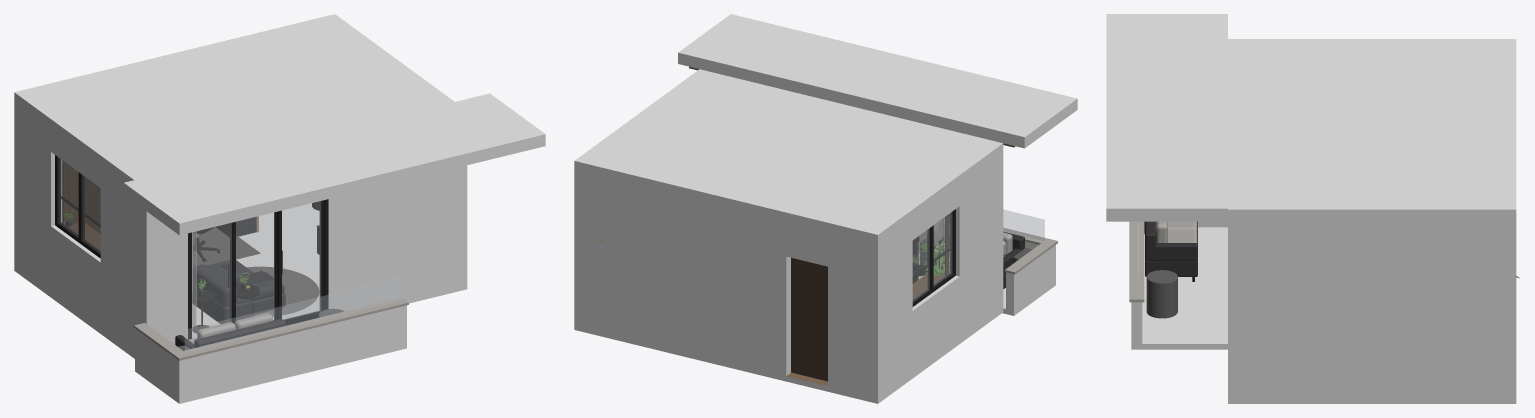
File: oyun_odasi.glb
3 renders of one model, left to right at view 1: azimuth 30°, elevation 25°; view 2: azimuth 150°, elevation 25°; view 3: azimuth 270°, elevation 25°, orthographic. The views are drawn at different scales.
Parts seen in each view (by area): view 1: Ceiling, Ter_soffit, WallS_b, Ter_parapet, WallW_a, Floor, WallW_b, WallS_a, Ter_glassrail, Slide2_glass, Slide0_glass, Slide1_glass (+19 smaller); view 2: Ceiling, WallN_b, Ter_soffit, WallN_a, WallW_b, WallW_a, Door_leaf, WallW_sill, Floor, Ter_wallW, WallN_head, Win_glassL (+6 smaller); view 3: Ceiling, WallE, Ter_soffit, Ter_floor, Floor, Ter_planter0, Ter_coping, OSofa_armR, OSofa_frame, Ter_parapet, OSofa_back, OSofa_seat1.
Boxes of the visible parts, x1,y1,x2,y2 form: Ceiling: (14, 14, 454, 186); Ter_soffit: (123, 93, 545, 235); WallS_b: (328, 165, 467, 311); Ter_parapet: (174, 305, 406, 403); WallW_a: (100, 171, 157, 352); Floor: (14, 203, 467, 358); WallW_b: (14, 108, 62, 291); WallS_a: (140, 207, 187, 344); Ter_glassrail: (185, 277, 403, 352); Slide2_glass: (282, 201, 321, 319); Slide0_glass: (192, 223, 231, 337); Slide1_glass: (236, 212, 274, 320); Ceiling: (574, 69, 1003, 248); WallN_b: (574, 175, 790, 375); Ter_soffit: (678, 14, 1077, 148); WallN_a: (828, 237, 884, 397); WallW_b: (867, 224, 912, 397); WallW_a: (949, 160, 1003, 337); Door_leaf: (791, 257, 827, 381); WallW_sill: (912, 275, 959, 372); Floor: (574, 307, 1003, 403); Ter_wallW: (1006, 248, 1054, 315); WallN_head: (786, 226, 827, 266); Win_glassL: (934, 212, 952, 285); Ceiling: (1228, 39, 1516, 225); WallE: (1228, 225, 1516, 397); Ter_soffit: (1106, 14, 1227, 221); Ter_floor: (1142, 227, 1227, 349); Floor: (1228, 397, 1516, 403); Ter_planter0: (1146, 270, 1177, 318); Ter_coping: (1129, 221, 1144, 302); OSofa_armR: (1145, 243, 1197, 260); OSofa_frame: (1145, 221, 1197, 276); Ter_parapet: (1131, 302, 1142, 349); OSofa_back: (1145, 221, 1156, 259); OSofa_seat1: (1168, 230, 1197, 243).
Size of the model in its own units: 6.44 by 3.22 by 5.79.
